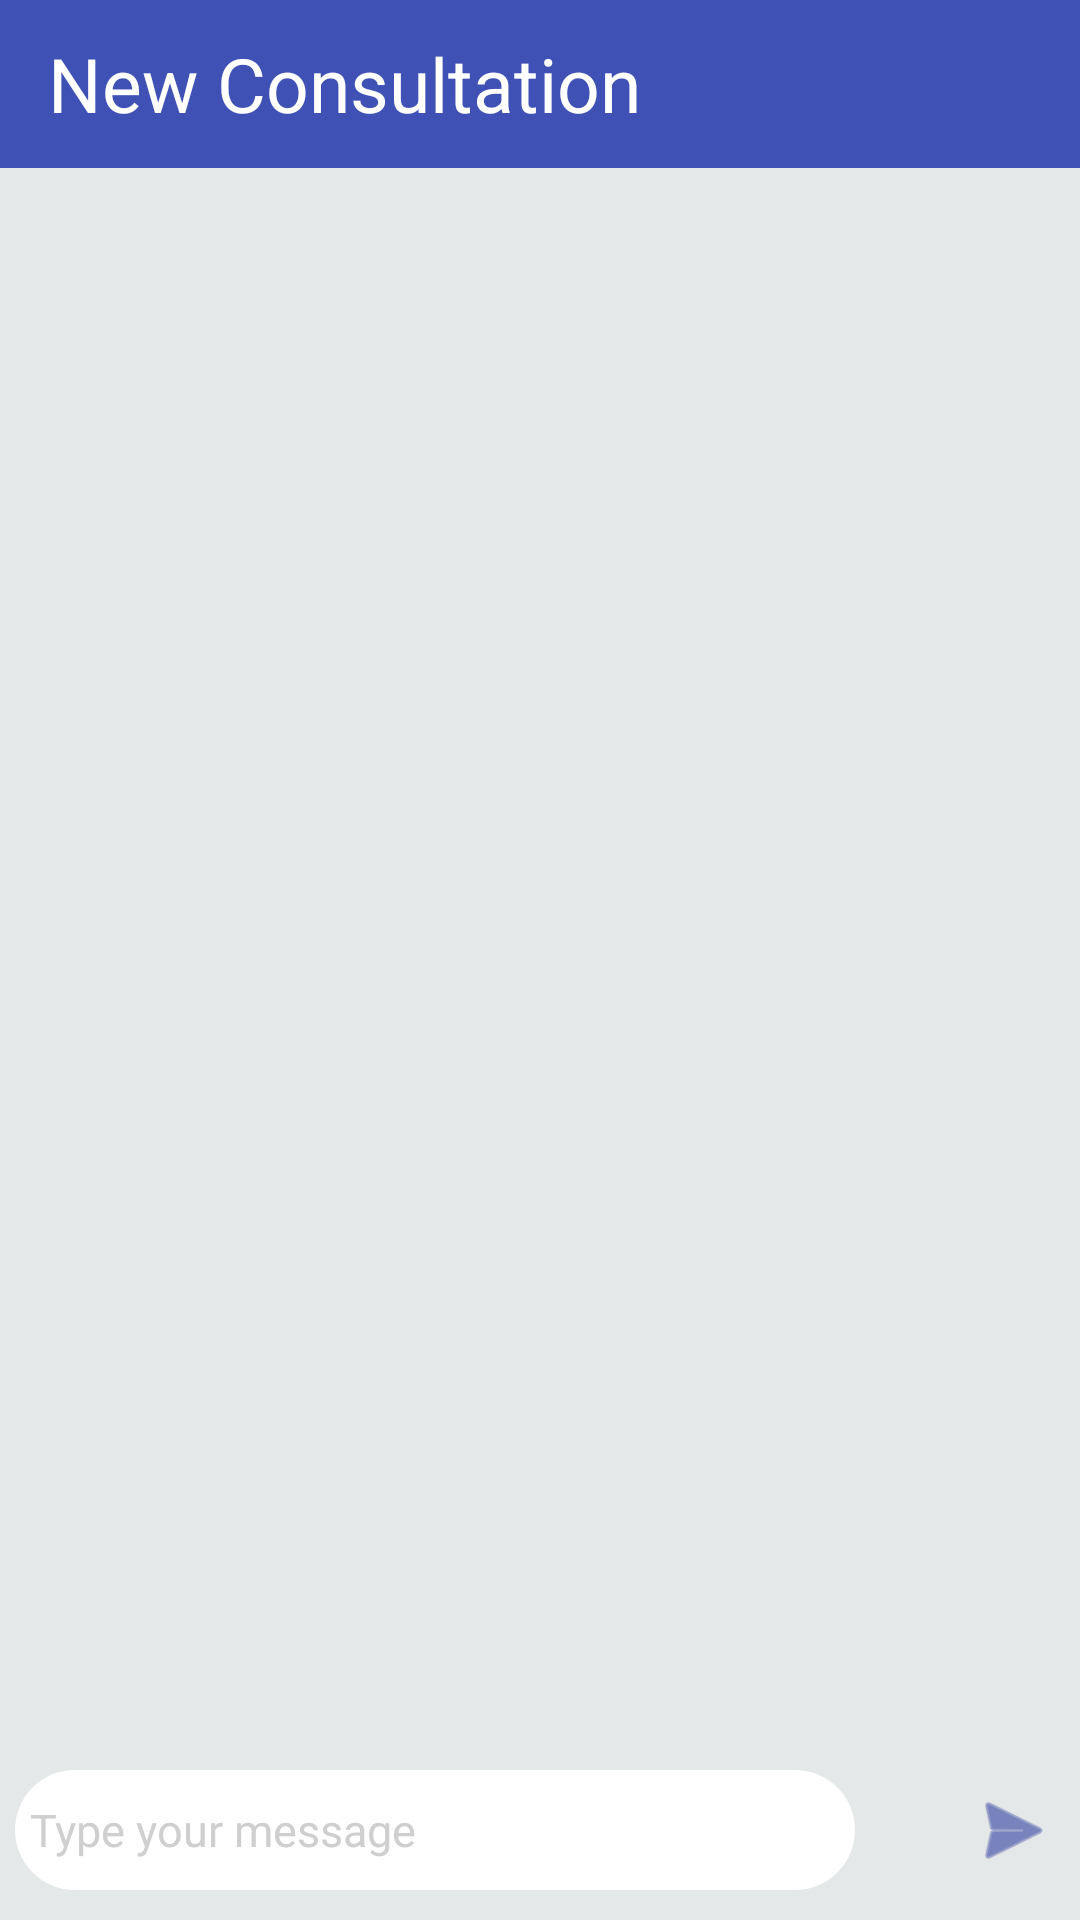

Where icons sit on this 1080px x 1920px app screen, as (x1=x1, y1=y1, x2=x2, y2=y2):
send: (x1=985, y1=1802, x2=1043, y2=1859)
